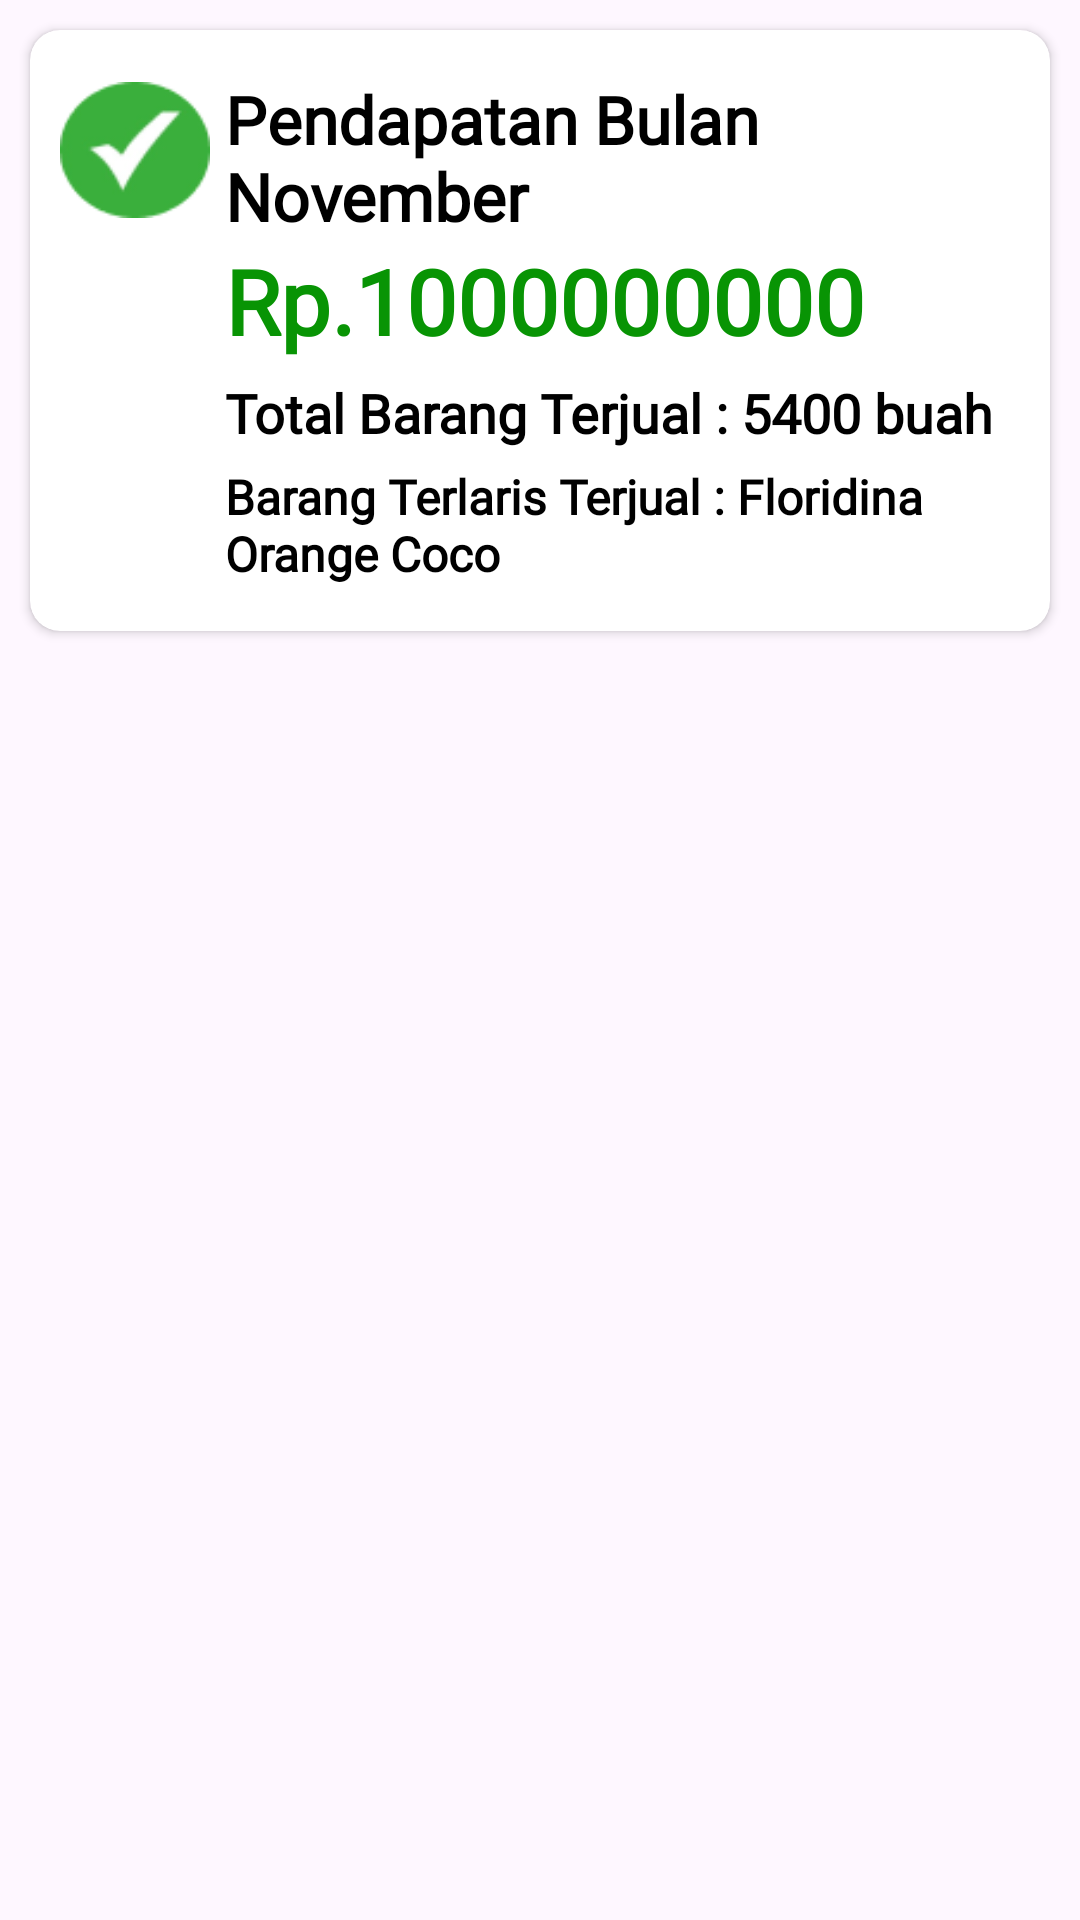

Named icons in this screenshot (1080px×1920px) and their bounding boxes, [x1, y1, x2, y2]:
ceklisorderhistory: [60, 82, 210, 218]
